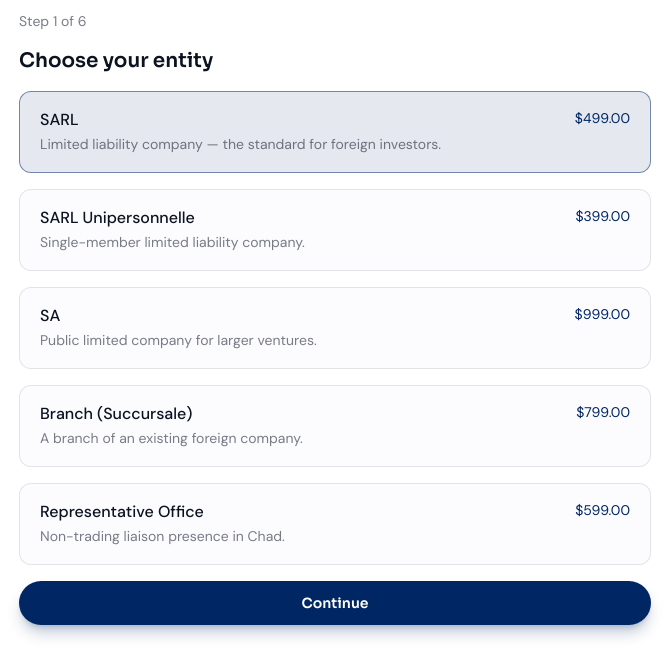
Test: ApplicationWizardPage › creates an application and advances to company details
The image size is (671, 662).
Click the button "Continue" at (335, 603), box [19, 581, 651, 625]
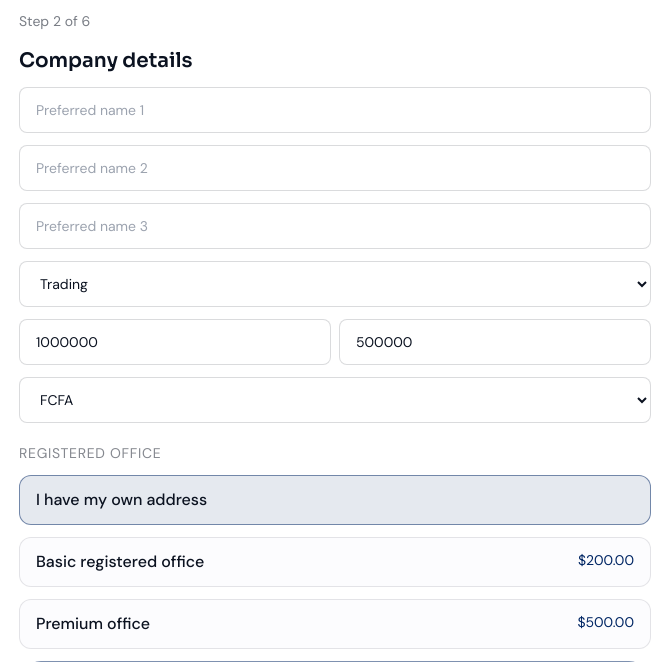
Check: the heading "Company details" is shown, box [19, 48, 193, 73]
